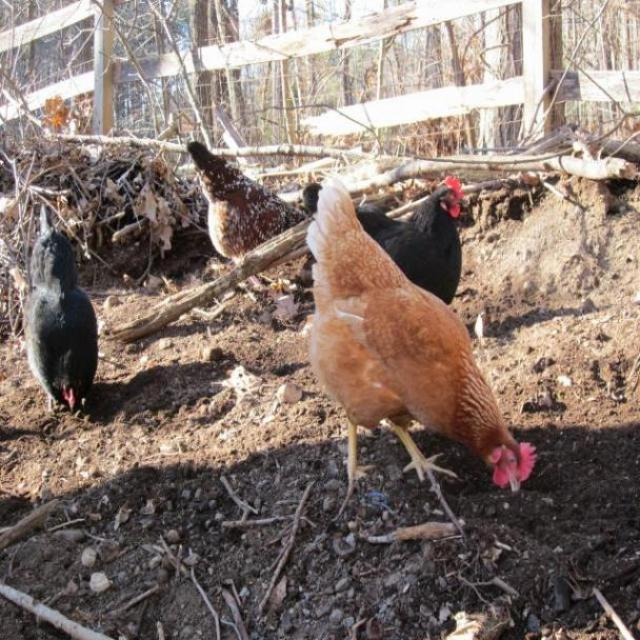Chicken: (302, 173, 535, 516), (191, 133, 300, 297), (29, 221, 102, 417), (374, 172, 461, 305)
